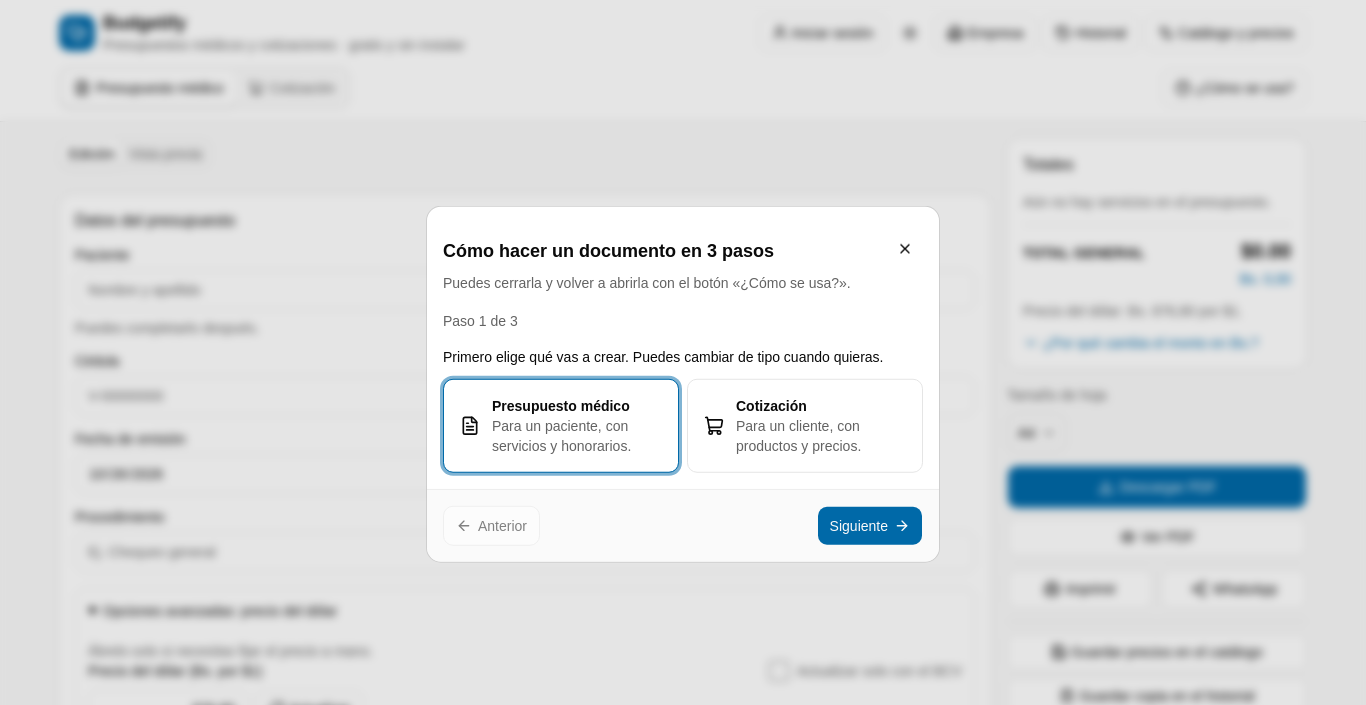
Test: App · interacciones › muestra la guía de 3 pasos la primera vez y se puede reabrir
The image size is (1366, 705).
Check: the text "Paso 1 de 3" is shown, box [443,312,518,328]
Click the button "Cotización Para un cliente, con productos y precios.".
click(805, 425)  # box [687,378,923,472]
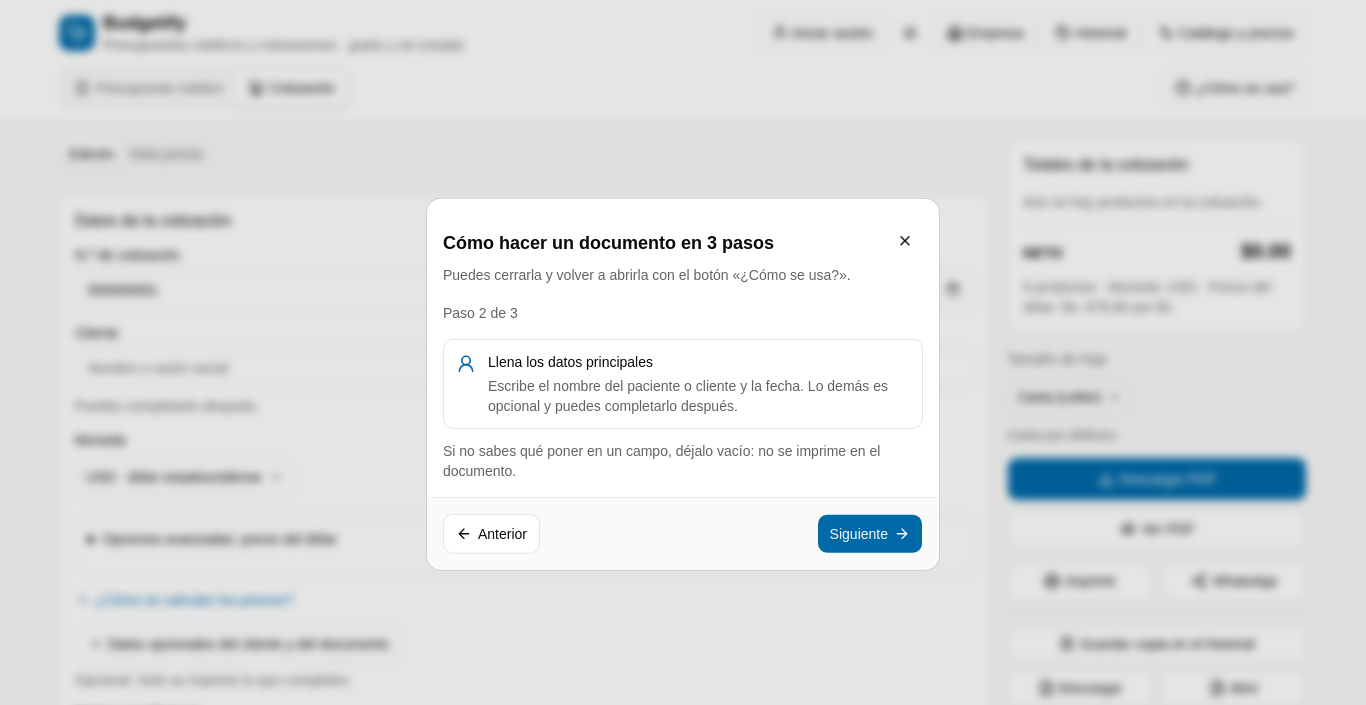
Check: the text "Paso 2 de 3" is shown, box [443,304,518,320]
Click the button "Siguiente".
click(870, 533)  # box [817,513,923,553]
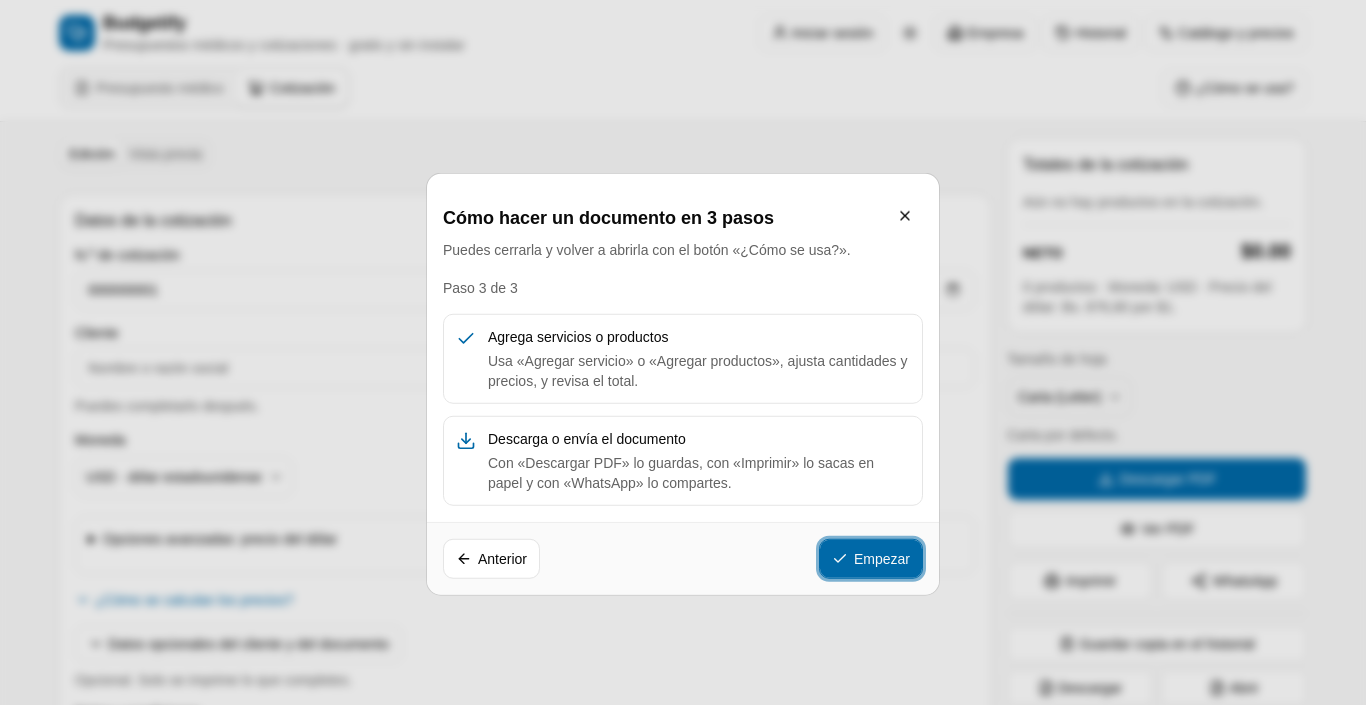
Check: the text "Paso 3 de 3" is shown, box [443,279,518,295]
Click the button "Empezar".
click(871, 558)  # box [819,538,923,578]
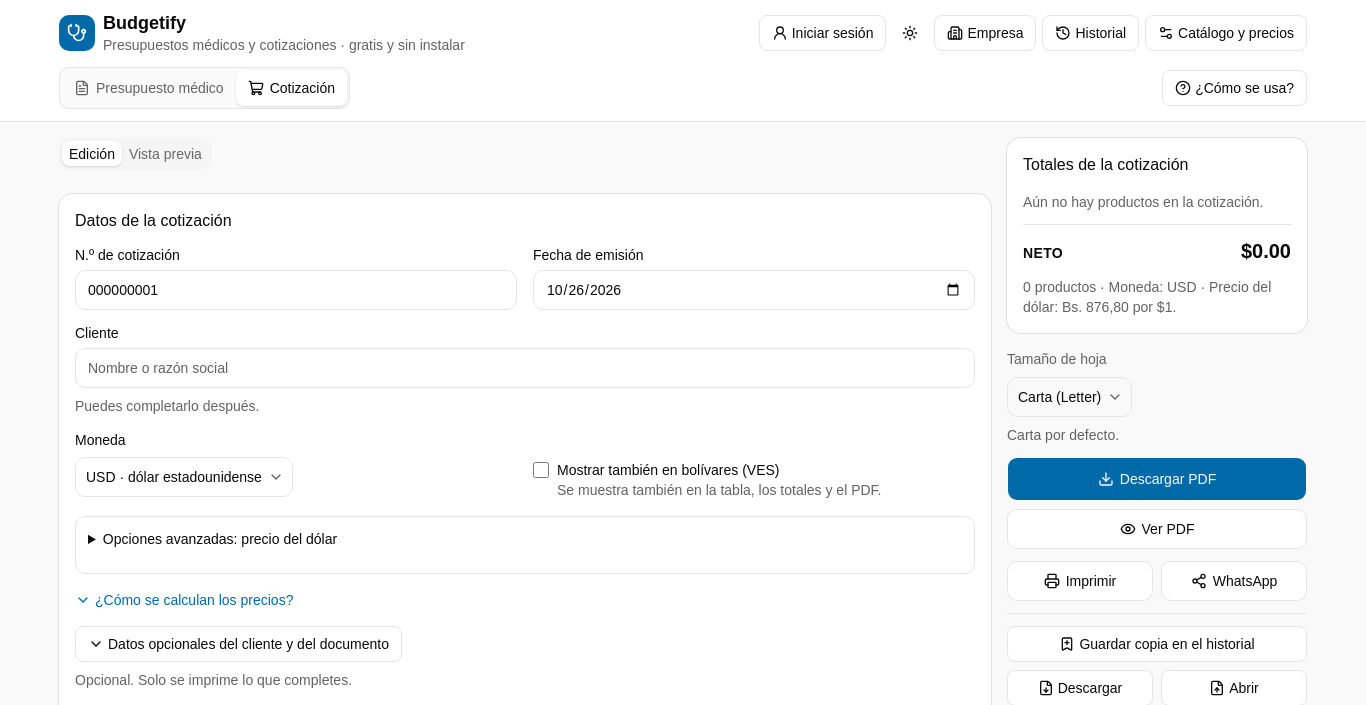
Check: the dialog is gone
Click the button "¿Cómo se usa?".
click(1235, 88)  # box [1162,70,1307,106]
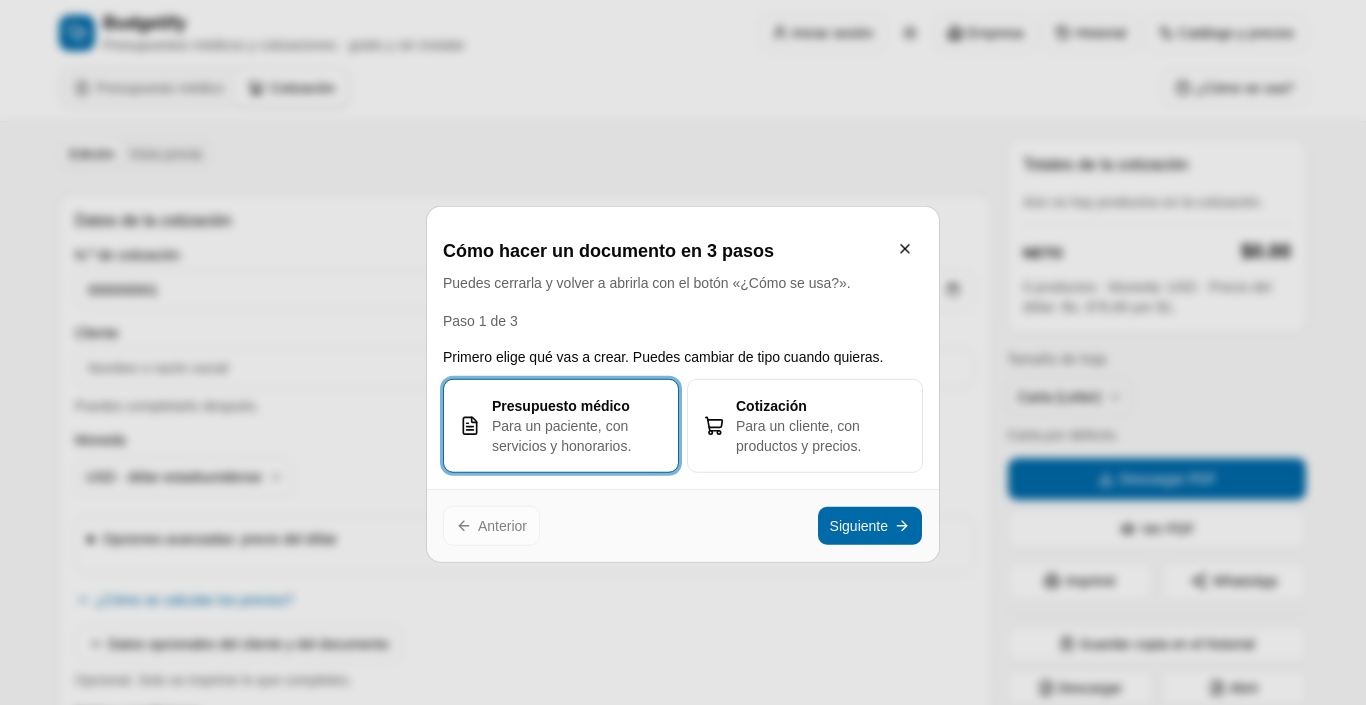
Check: the dialog is shown, box [427,207,939,561]
